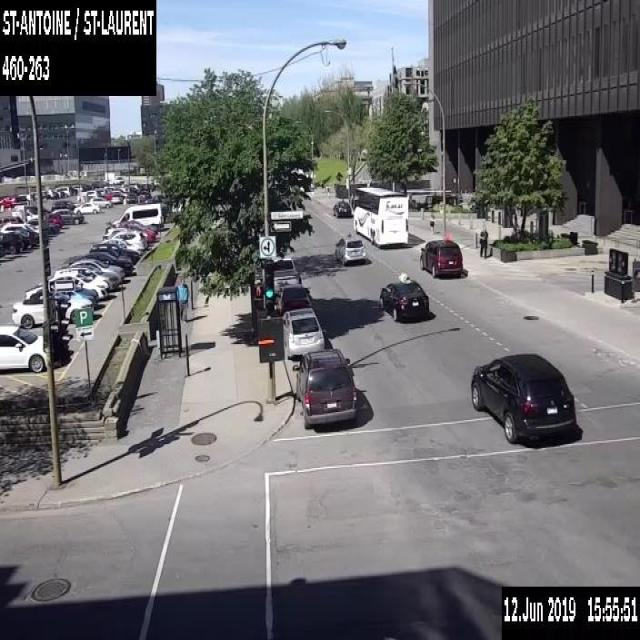bus: (352, 185, 409, 245)
pedestrian: (176, 276, 188, 321), (478, 222, 488, 258), (428, 208, 436, 234)
vehicle: (469, 352, 578, 443), (292, 348, 356, 428), (11, 291, 93, 328), (379, 272, 429, 321), (282, 306, 324, 359), (0, 324, 46, 372), (25, 273, 106, 298), (419, 237, 463, 276), (68, 250, 133, 275), (54, 266, 109, 292), (112, 201, 164, 228), (68, 258, 124, 283), (66, 264, 119, 289), (275, 283, 313, 315), (273, 256, 301, 296), (88, 242, 138, 264), (334, 231, 365, 265), (49, 285, 98, 305), (105, 223, 155, 241), (0, 223, 39, 245), (101, 229, 145, 248), (101, 237, 142, 254), (116, 218, 158, 234), (102, 226, 147, 240), (0, 230, 23, 253), (50, 208, 83, 224), (10, 226, 34, 248), (27, 217, 59, 232), (332, 199, 351, 217), (145, 194, 169, 208), (41, 212, 63, 227), (0, 215, 25, 228), (72, 202, 99, 214), (89, 195, 112, 208), (50, 200, 76, 210), (15, 192, 32, 205), (0, 194, 15, 208), (54, 184, 70, 196), (107, 189, 127, 197), (46, 187, 58, 198), (138, 192, 150, 202), (86, 188, 100, 196), (126, 192, 136, 202), (68, 185, 78, 195), (71, 183, 82, 192), (111, 193, 122, 202), (95, 188, 107, 196), (41, 189, 50, 199), (57, 189, 68, 197), (104, 185, 115, 192)
